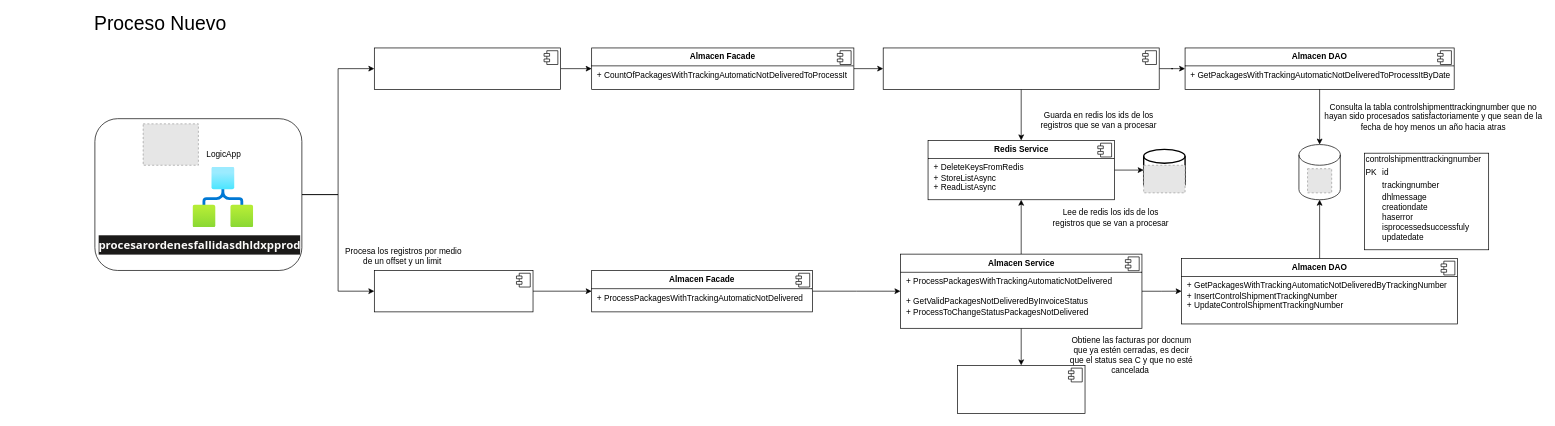
Some shapes in this 1555 by 426 pixel diagram are drawn without their labels. Grey dashed boxes stand in for pictures. Here are the shapes that lost their labels. From the top down, the centre of each, then its label:
At [467,68]: "Almacen Controller + packages/trackingautomatic/toprocess/count".
At [1021,68]: "Almacen Service + CountOfPackagesWithTrackingAutomaticNotDeliveredToProcessIt".
At [453,291]: "Almacen Controller + packages/trackingautomatic/toprocess".
At [1021,389]: "SAP Controller + closed/invoices/bydocnum".
